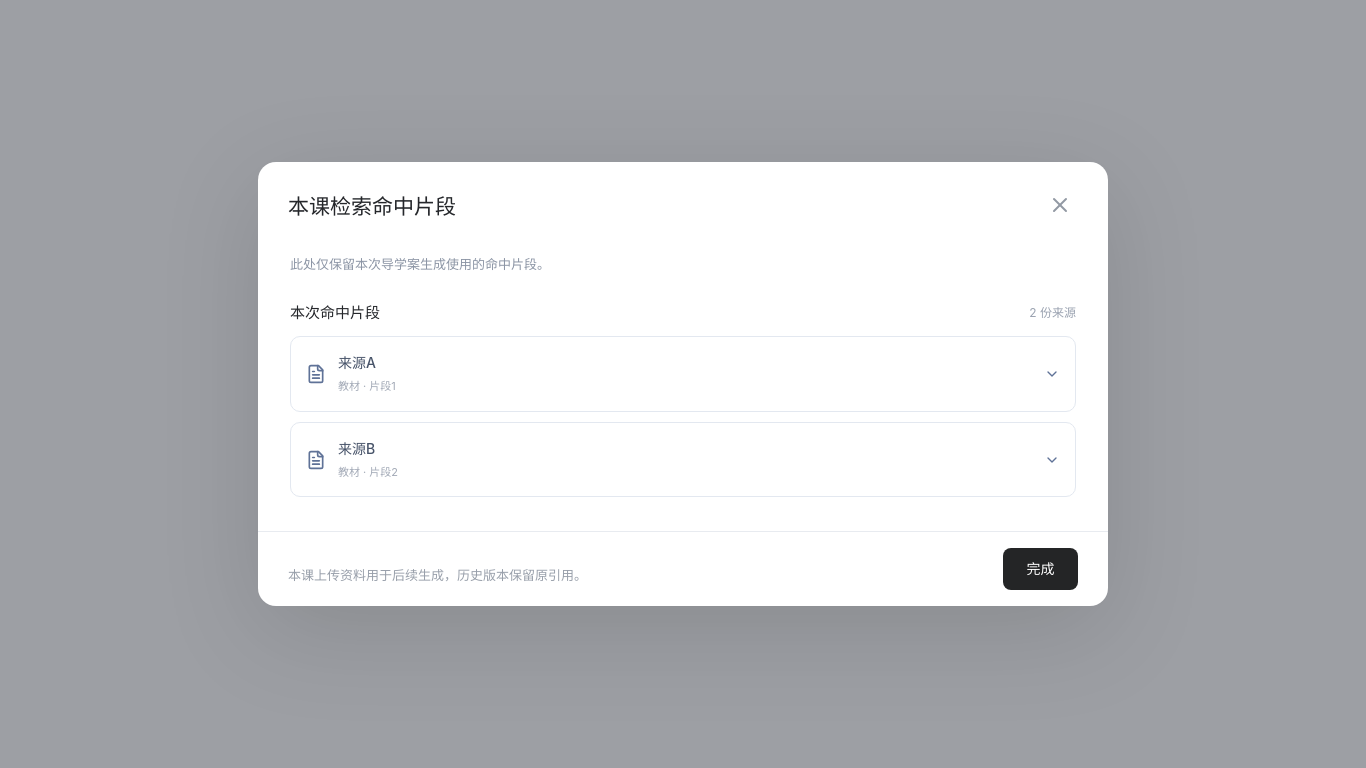
Test: source cards show evidence without verification labels or review controls
This screenshot has width=1366, height=768.
Click the button "来源A 教材 · 片段1": (357, 363) top-left (291, 337), bottom-right (1075, 411)
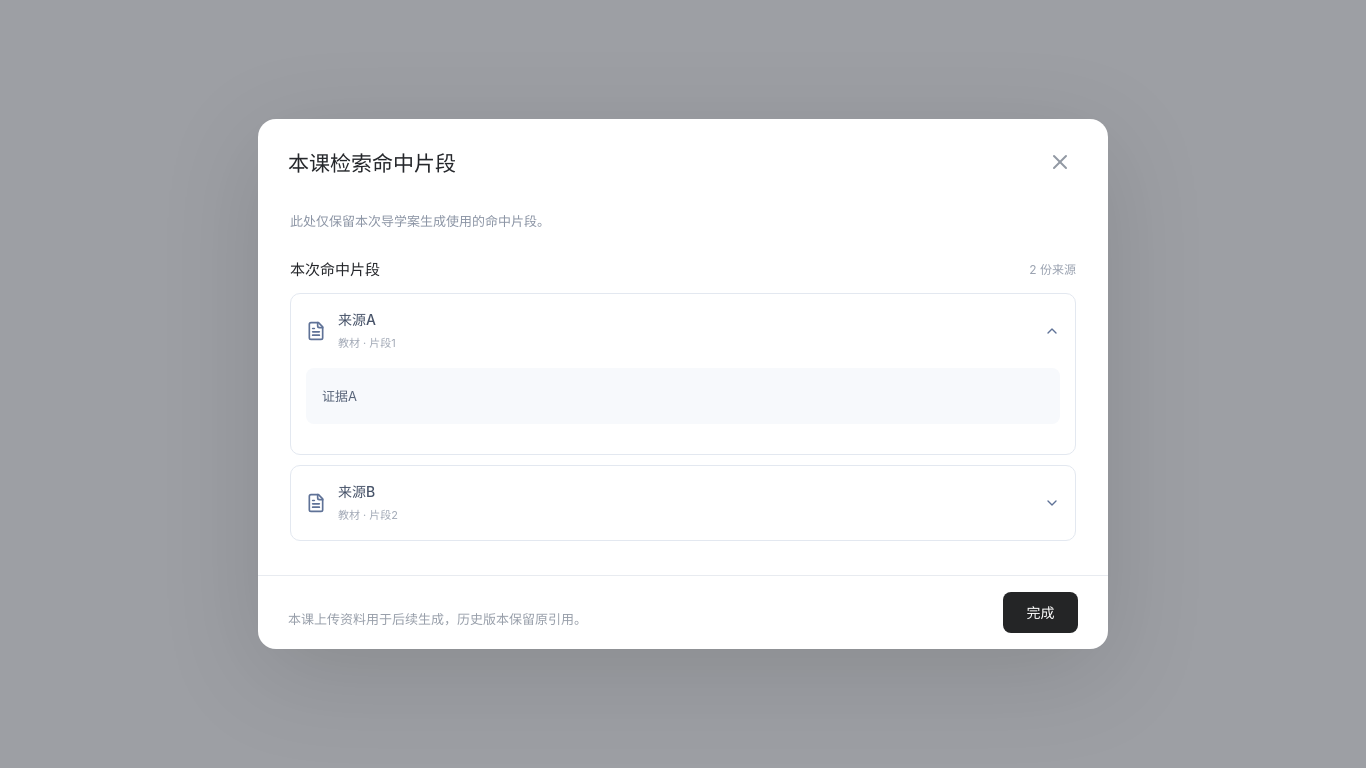
Expected: the text "证据A" is shown, top-left (322, 388), bottom-right (357, 404)
